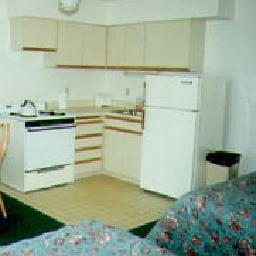Bote de Basura: (204, 152, 240, 181)
Electrodomestico: (140, 77, 200, 194), (10, 107, 75, 191)
